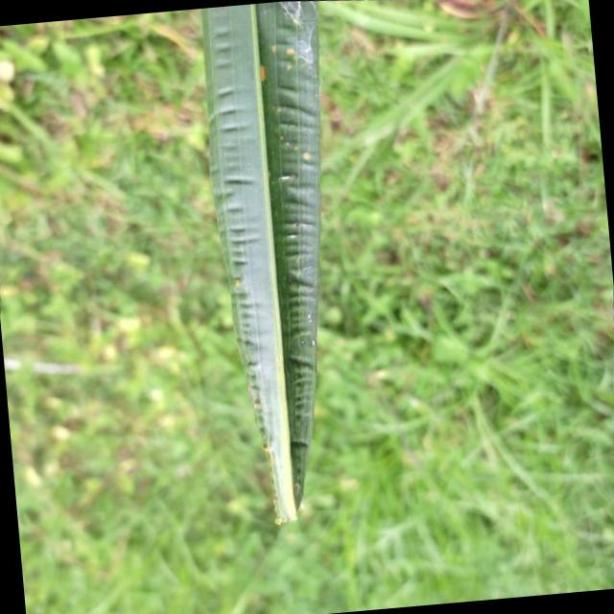Boron: (192, 0, 324, 531)
